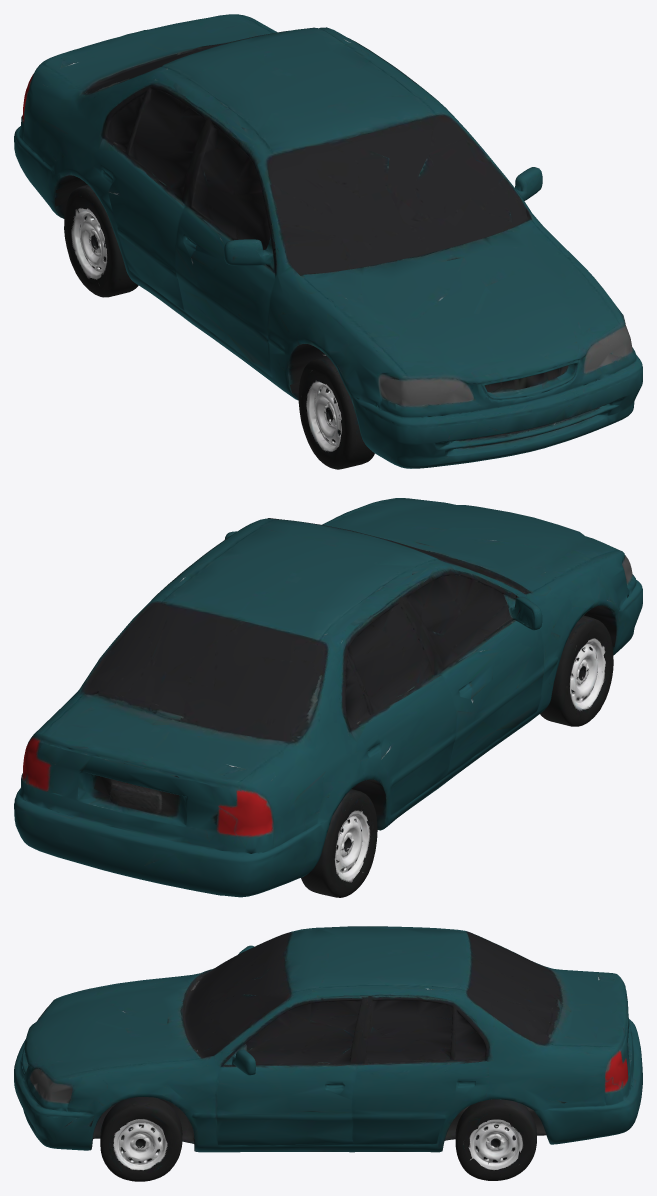
The model's file is sedan-v10.glb.
3 renders of one model, top to bottom at view 1: azimuth 30°, elevation 25°; view 2: azimuth 150°, elevation 25°; view 3: azimuth 270°, elevation 25°, orthographic. The views are drawn at different scales.
Visible parts, largest first — view 1: body, wheel_fl_mesh, wheel_rl_mesh; view 2: body, wheel_fl_mesh, wheel_rl_mesh; view 3: body, wheel_fr_mesh, wheel_rr_mesh.
Boxes of the visible parts, x1,y1,x2,y2 form: body: [14, 14, 642, 468]; wheel_fl_mesh: [298, 356, 374, 469]; wheel_rl_mesh: [64, 184, 138, 297]; body: [14, 498, 642, 897]; wheel_fl_mesh: [540, 615, 613, 726]; wheel_rl_mesh: [301, 789, 377, 897]; body: [14, 926, 642, 1152]; wheel_fr_mesh: [100, 1097, 182, 1181]; wheel_rr_mesh: [455, 1099, 536, 1180].
Bounding box in the file's own units: 1.97 × 1.42 × 4.5.
Materials: 1 (1 with a texture image).
